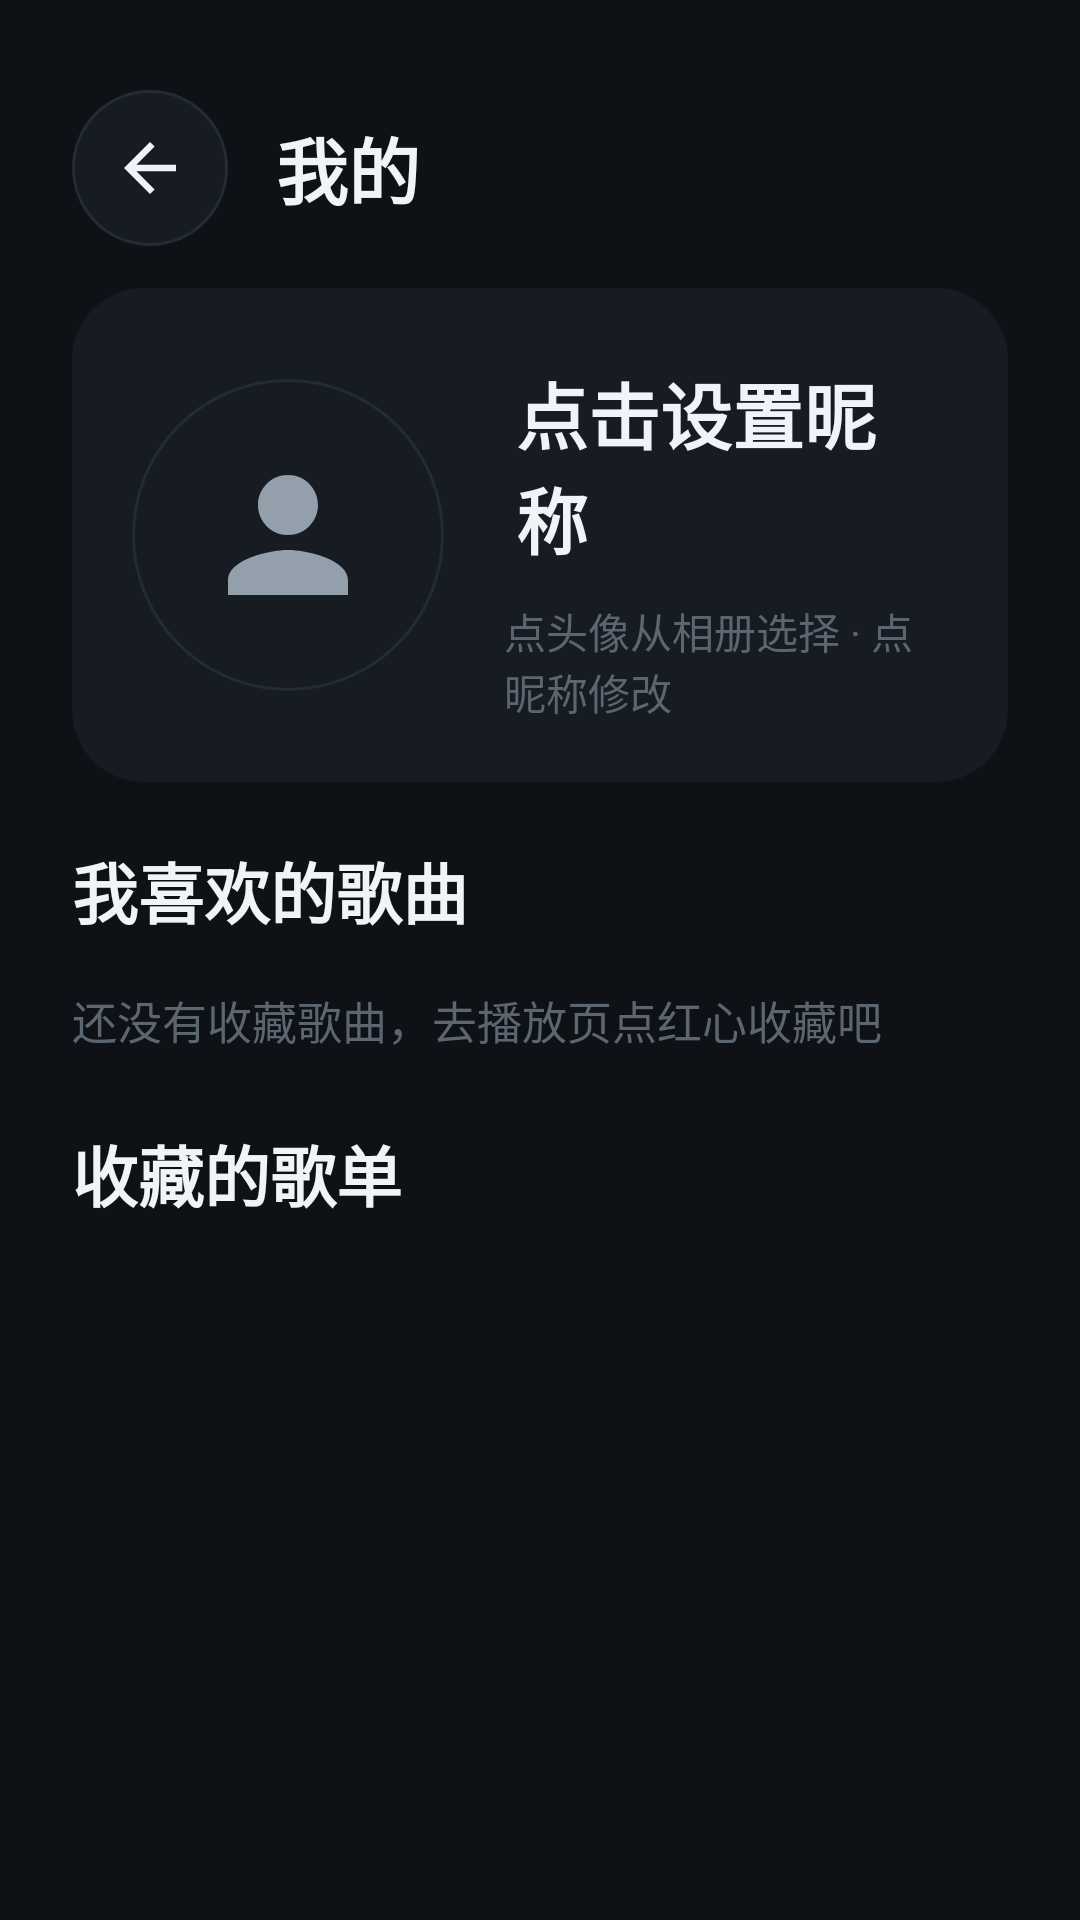

Icon bounding boxes for this 1080 x 1920 phone screenshot, format (x1, y1, x2, y2):
返回: (72, 90, 228, 246)
